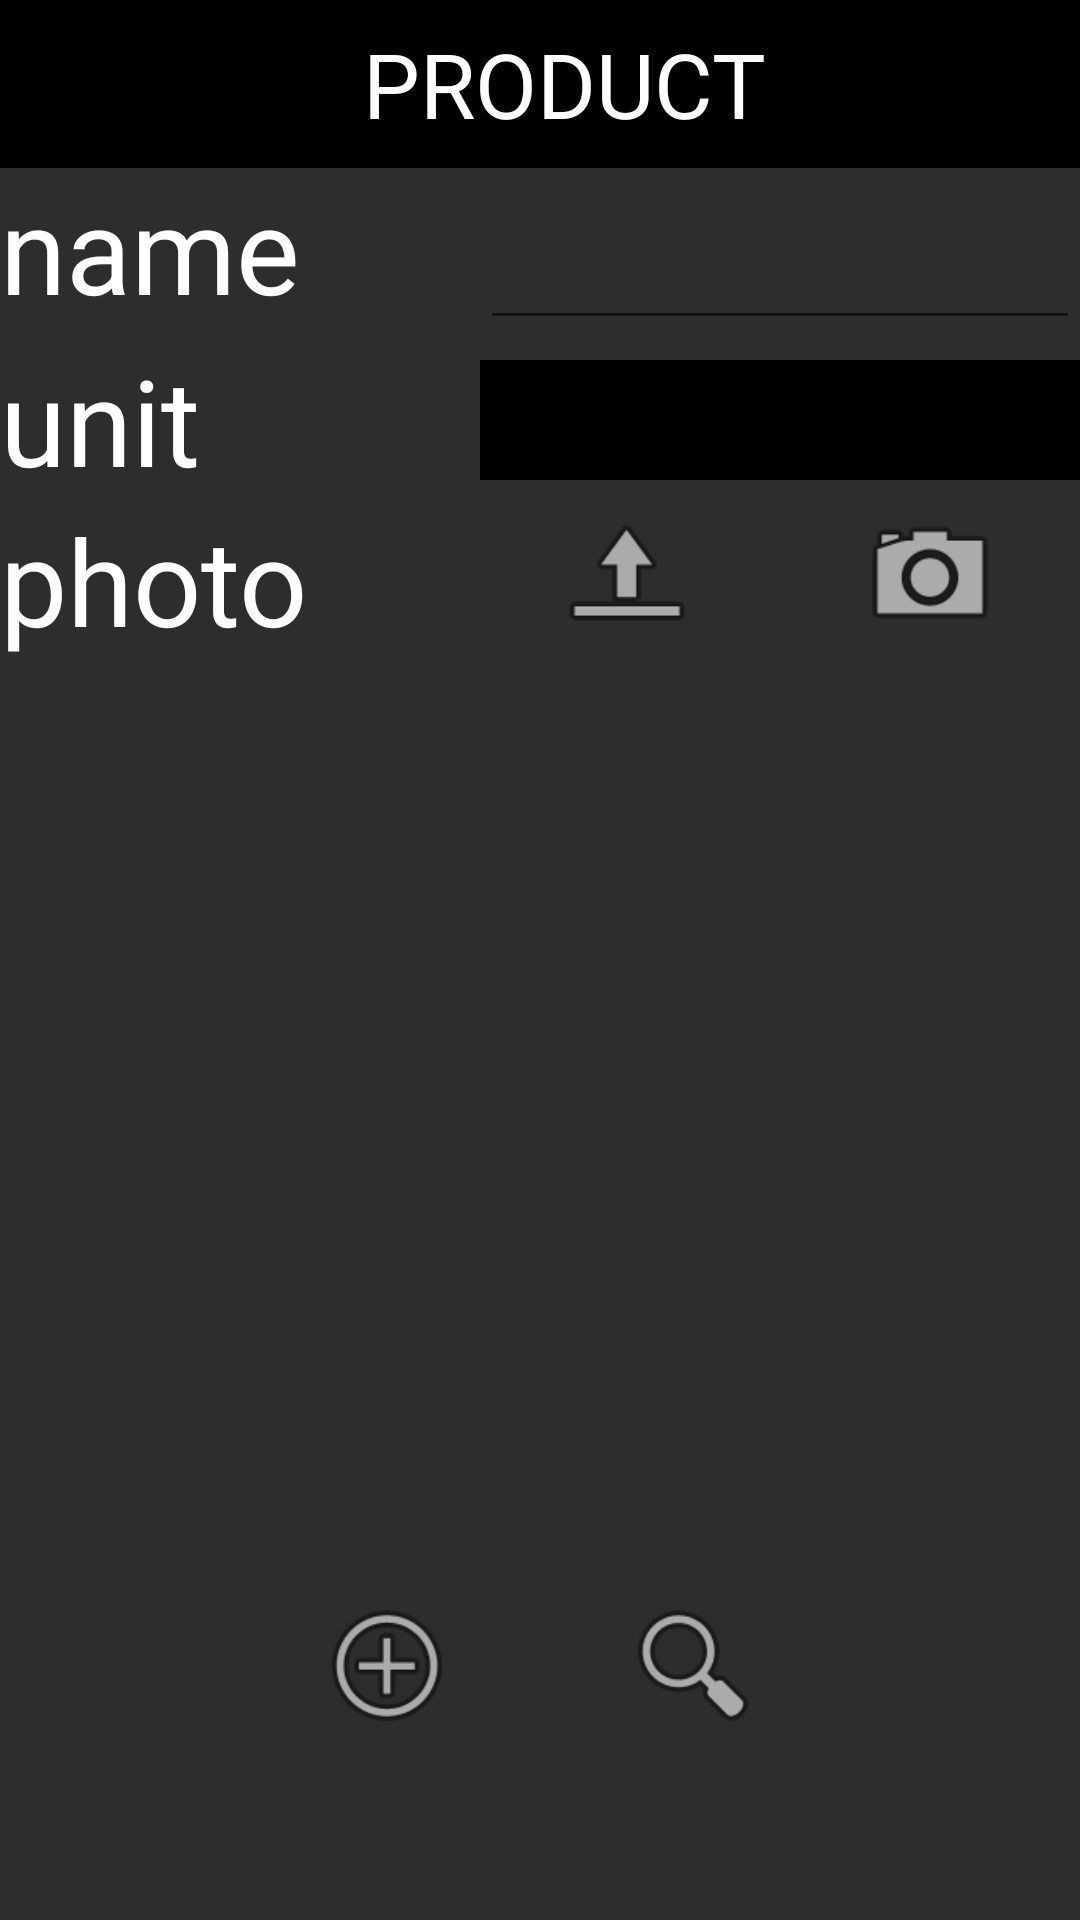

Screen size 1080x1920. Icon name, then its center in pixels as (x,y):
add: (387,1666)
camera: (930,572)
search: (693,1666)
upload: (627,573)
